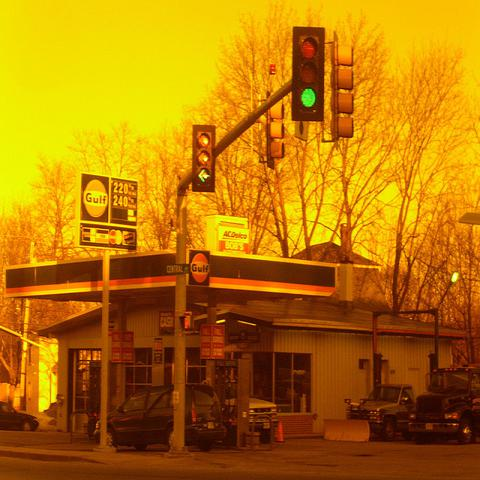car: (94, 384, 226, 451), (409, 367, 479, 445), (0, 399, 39, 430)
truck: (406, 361, 479, 446), (342, 384, 415, 439), (248, 398, 278, 443)
